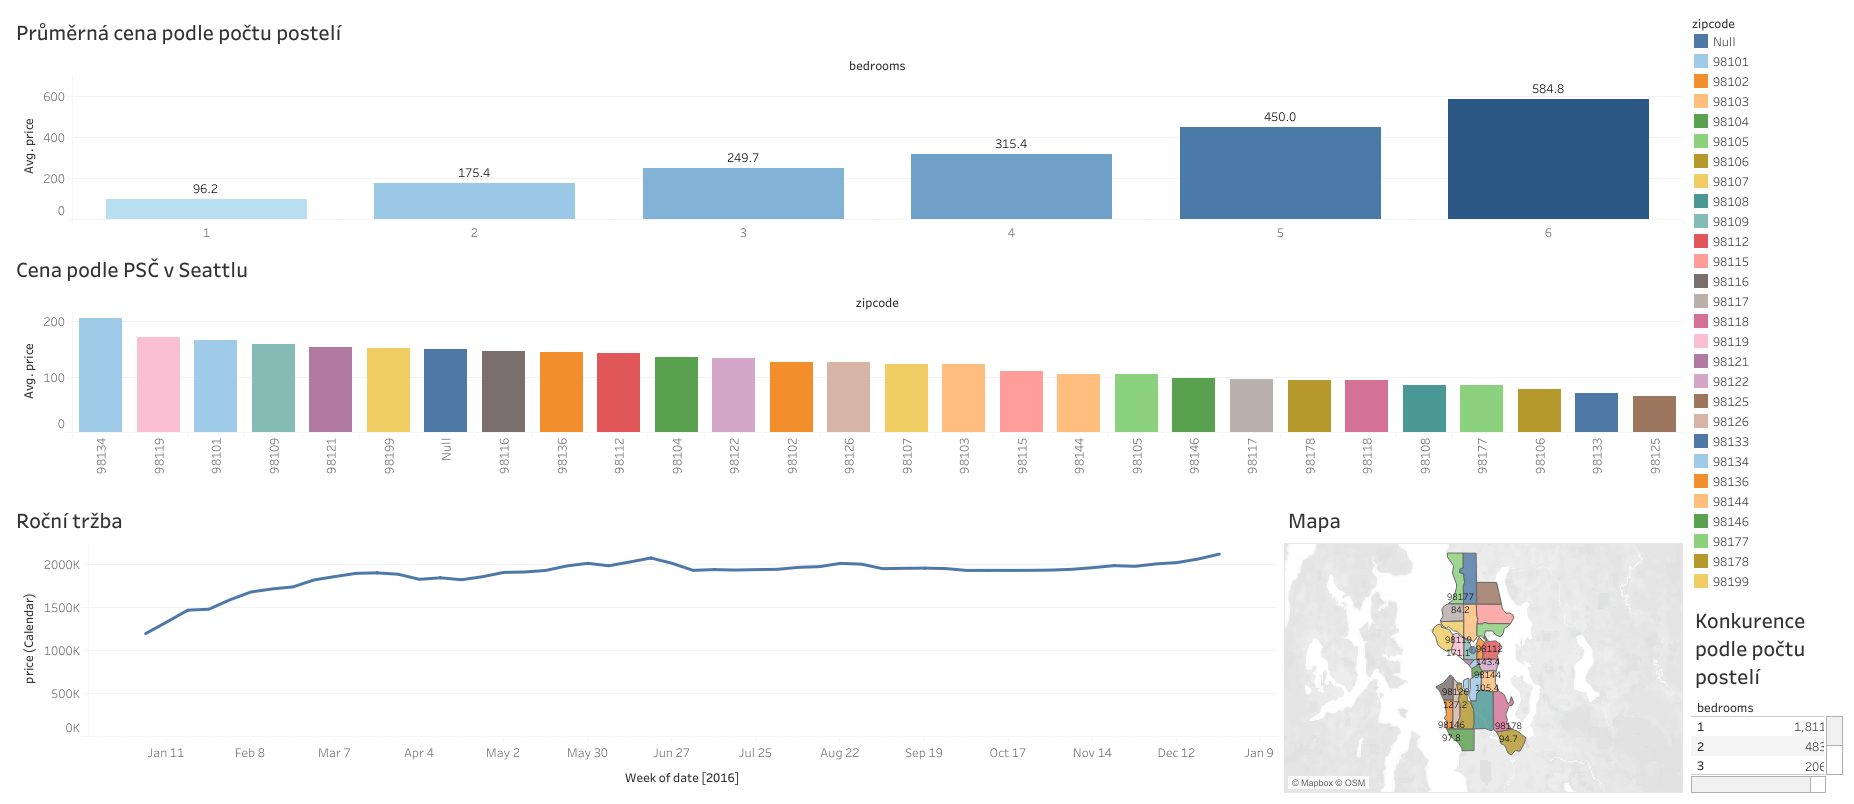

The page's visual inventory and layout, read from the dashboard file:
{"tool":"tableau","page":{"name":"Dashboard 1","canvas":[1000,1000],"units":"permille","ordinal":0},"visuals":[{"type":"worksheet","title":"Sheet 4","mark":"Automatic","rows":["price"],"cols":["bedrooms"],"box":[4.7,9.3,897,294.4]},{"type":"legend","title":"Sheet 1","param":"[federated.1gxo2150jk0s3h1alt94i12u6ogj].[none:zipcode:ok]","box":[901.7,9.3,93.6,686.9]},{"type":"worksheet","title":"Sheet 1","mark":"Automatic","rows":["price"],"cols":["zipcode"],"box":[4.7,303.7,897,313.1]},{"type":"worksheet","title":"Sheet 3","mark":"Automatic","rows":["price (Calendar)"],"cols":["date"],"box":[4.7,616.8,679.4,373.8]},{"type":"worksheet","title":"Sheet 2","mark":"Multipolygon","rows":["latitude"],"cols":["longitude"],"box":[684,616.8,217.7,373.8]},{"type":"worksheet","title":"Sheet 5","mark":"Automatic","rows":["bedrooms"],"box":[901.7,696.3,93.6,286.2]}]}

Visuals, with their boxes on the dashboard's canvas, which has no fixed pixel size, in thousandths of its width and height (x1, y1, x2, y2). These are canvas units, not pixel positions in the 1854x804 screenshot, which may show the page scaled, cropped or inside an application window:
"Sheet 4" worksheet: bbox=[5, 9, 902, 304]
"Sheet 1" legend: bbox=[902, 9, 995, 696]
"Sheet 1" worksheet: bbox=[5, 304, 902, 617]
"Sheet 3" worksheet: bbox=[5, 617, 684, 991]
"Sheet 2" worksheet (Multipolygon marks): bbox=[684, 617, 902, 991]
"Sheet 5" worksheet: bbox=[902, 696, 995, 982]
